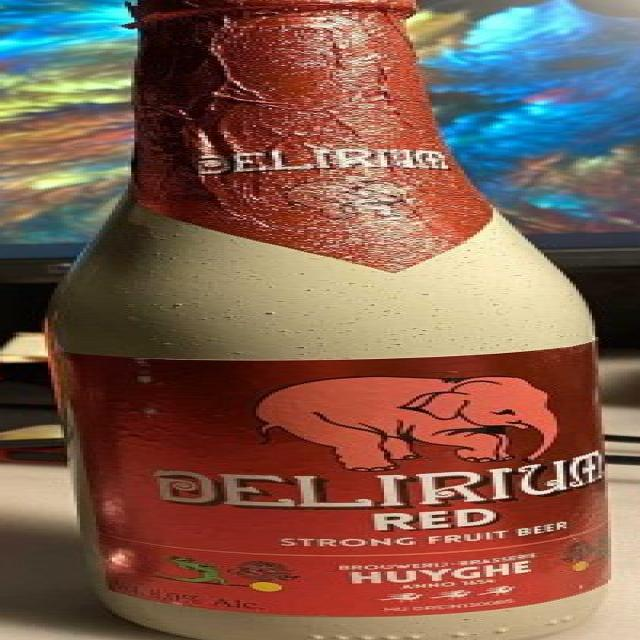Delirium Red: (3, 0, 640, 640)
